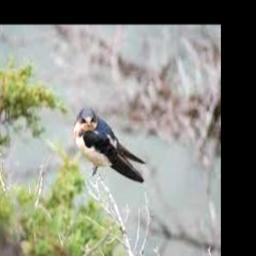Swallow: (74, 107, 147, 181)
